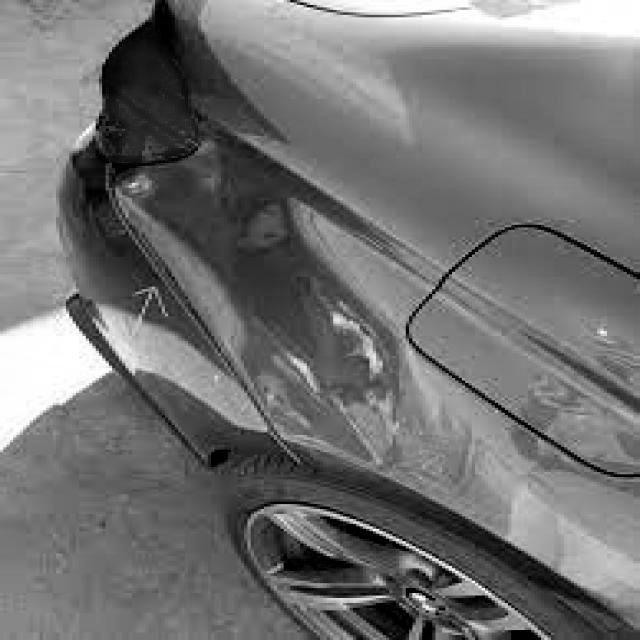Taillight-Damage: (78, 14, 230, 202)
quaterpanel-dent: (215, 204, 574, 611)
